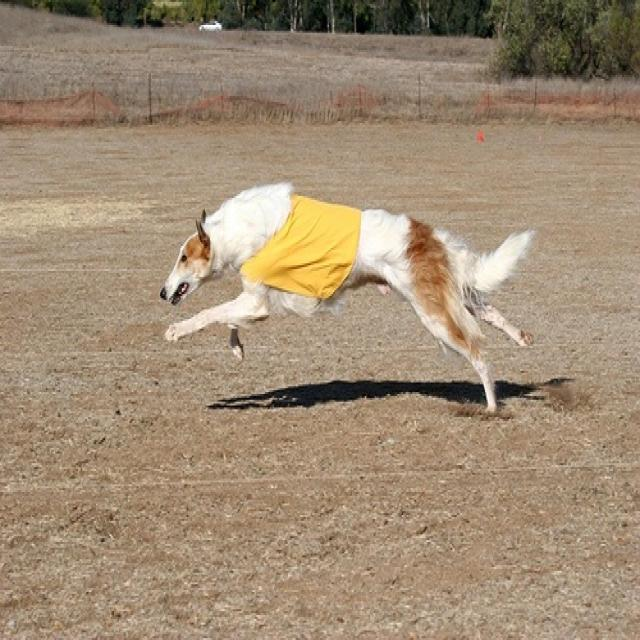dog: (158, 175, 538, 415)
